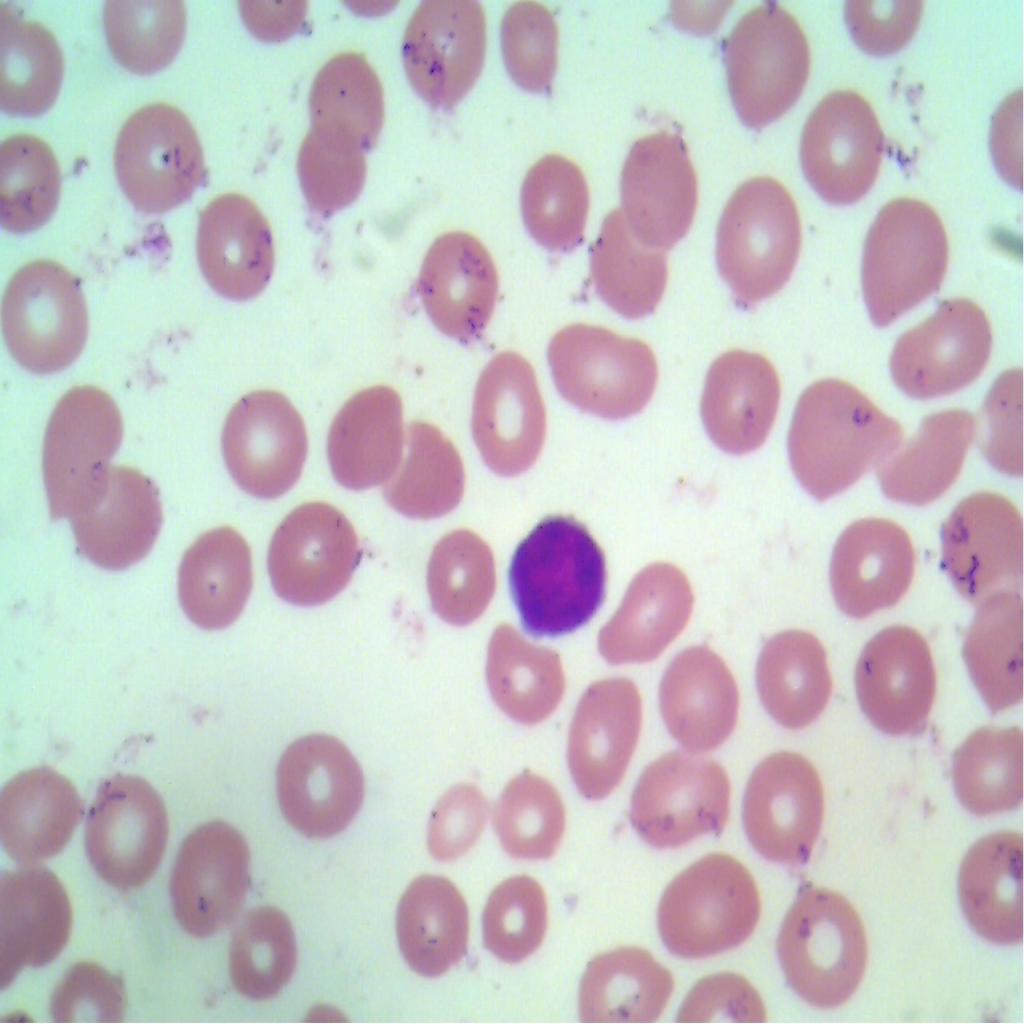Eritrosit: (544, 308, 670, 432), (708, 0, 821, 138), (709, 175, 816, 317), (643, 850, 773, 965), (774, 872, 876, 1018), (619, 737, 743, 848), (274, 719, 378, 850), (394, 0, 498, 131), (883, 285, 993, 408), (213, 378, 319, 504), (788, 90, 894, 216), (814, 500, 923, 622), (681, 344, 783, 474), (458, 358, 555, 494), (849, 612, 943, 751), (744, 618, 846, 746), (1, 255, 106, 378), (595, 538, 693, 668), (859, 188, 953, 322), (38, 378, 122, 527), (469, 616, 571, 737), (164, 504, 255, 639), (191, 189, 295, 307), (786, 384, 888, 501), (874, 401, 980, 509), (86, 770, 174, 900), (166, 808, 250, 938), (69, 460, 168, 570), (113, 104, 213, 212), (566, 672, 646, 807), (378, 870, 474, 982), (944, 821, 1023, 954), (618, 128, 704, 249), (566, 924, 670, 1023), (946, 591, 1024, 722), (490, 0, 581, 112), (736, 748, 828, 858), (264, 498, 358, 605), (406, 235, 502, 338), (938, 495, 1024, 607), (654, 634, 739, 746), (378, 423, 472, 524), (939, 714, 1023, 826), (591, 205, 668, 327), (419, 520, 502, 632), (318, 380, 402, 490), (0, 768, 88, 868), (518, 152, 596, 264), (470, 861, 554, 964), (486, 760, 570, 862), (0, 862, 76, 971), (303, 47, 381, 148), (226, 909, 308, 998), (0, 130, 68, 237), (96, 0, 194, 74), (0, 12, 68, 118), (419, 761, 488, 864), (298, 128, 368, 227)
Limfoblast: (513, 500, 610, 639)
